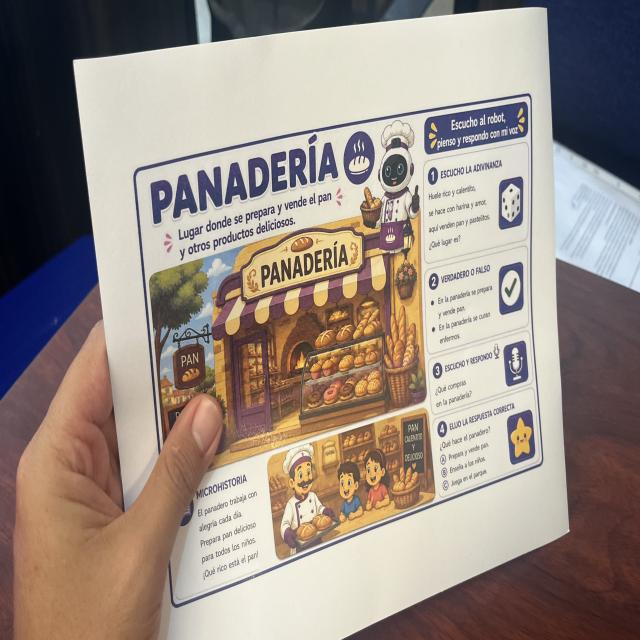panaderia: (129, 86, 548, 615)
